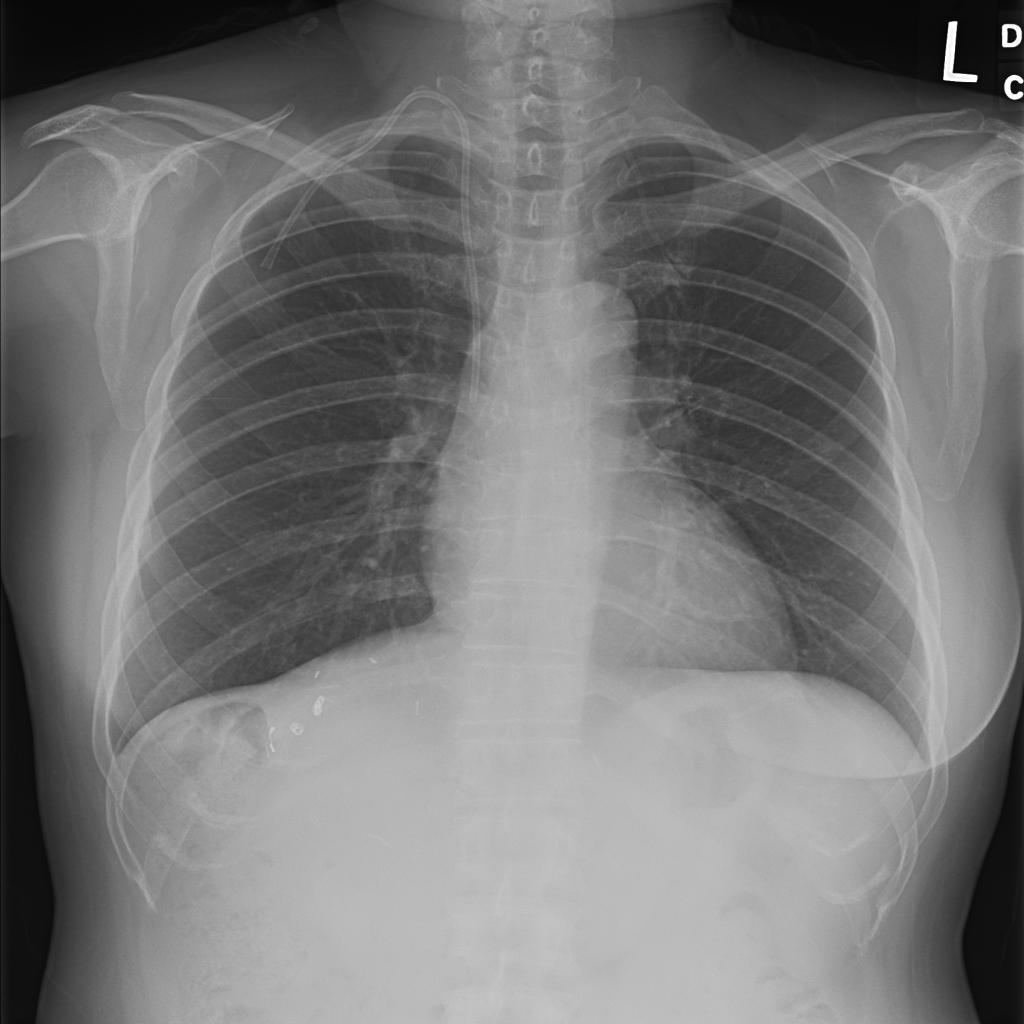Nodule: (174, 327, 223, 363), (469, 199, 511, 237)
